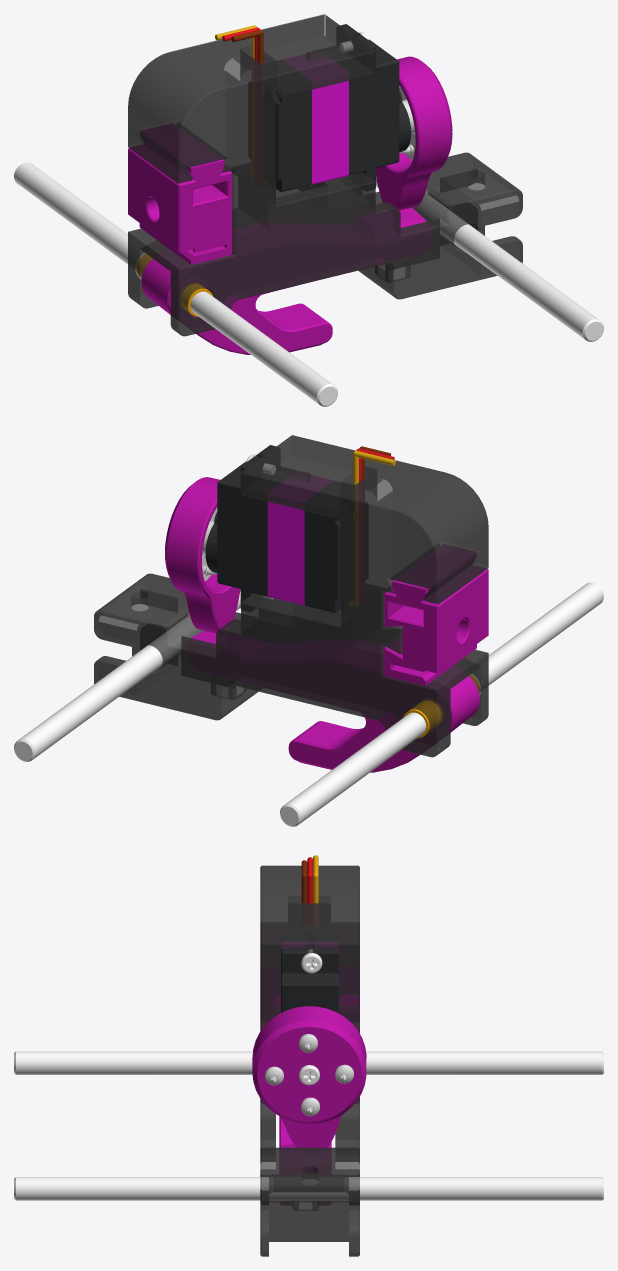
The model's file is SCSMALL.glb.
3 renders of one model, top to bottom at view 1: azimuth 30°, elevation 25°; view 2: azimuth 150°, elevation 25°; view 3: azimuth 270°, elevation 25°, orthographic. The views are drawn at different scales.
Visible parts, largest first — view 1: SOLID (×10); view 2: SOLID (×10); view 3: SOLID (×5).
Part boxes in pixels (x1,y1,x2,y2): SOLID (×10): (14,14,603,406); SOLID (×10): (14,435,603,826); SOLID (×5): (14,865,603,1256).
Size of the model in its own units: 0.0813 by 0.0717 by 0.124.
